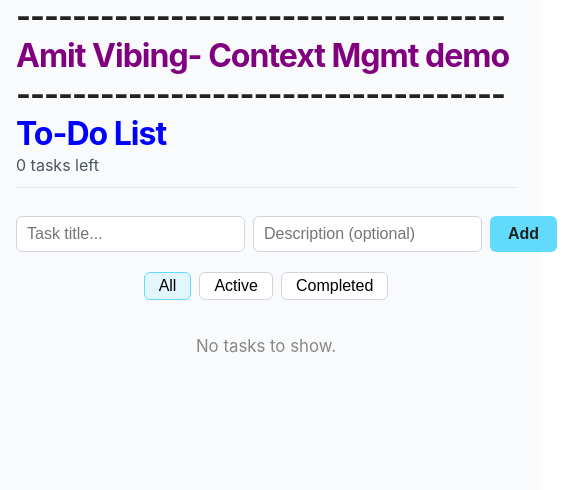
Test case: App Component › Deleting Tasks › deletes correct task when multiple tasks exist
Type "First task" into the field with placeholder "Task title...".
click(130, 234); type("First task")  # box [16,216,245,252]
Click the button "Add".
click(524, 234)  # box [490,216,557,252]
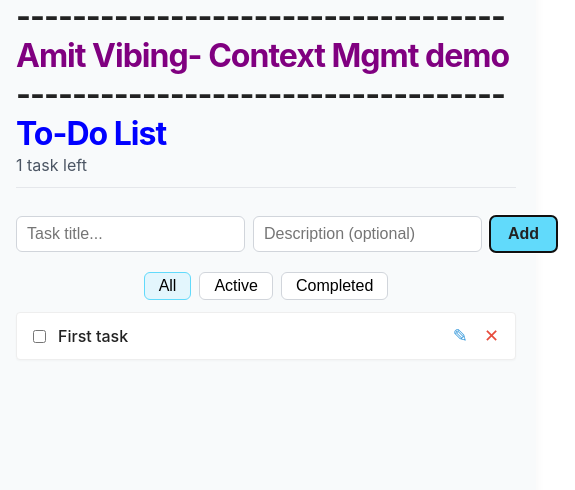
Type "Second task" into the field with placeholder "Task title...".
click(130, 234); type("Second task")  # box [16,216,245,252]
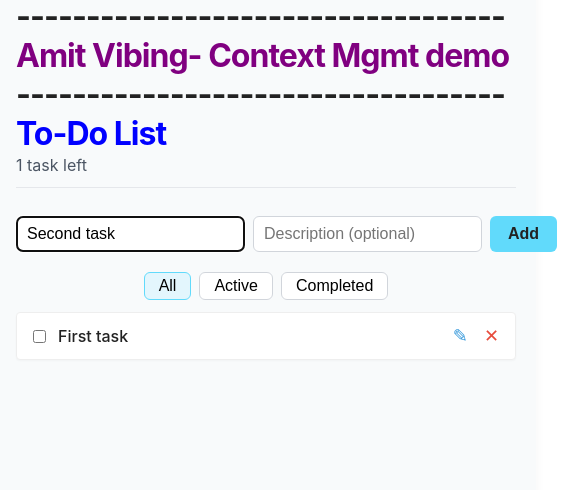
Click the button "Add".
click(524, 234)  # box [490,216,557,252]
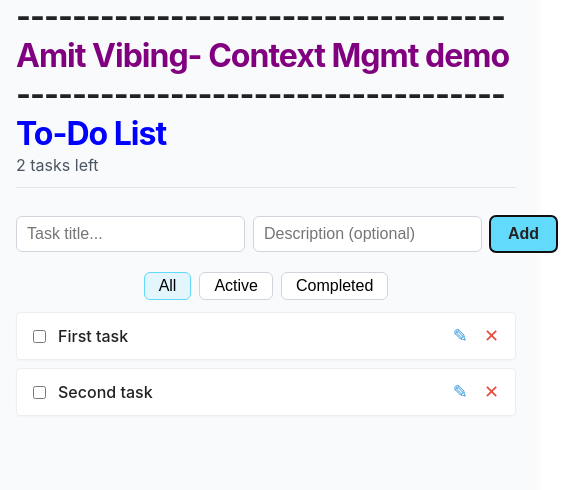
Type "Third task" into the field with placeholder "Task title...".
click(130, 234); type("Third task")  # box [16,216,245,252]
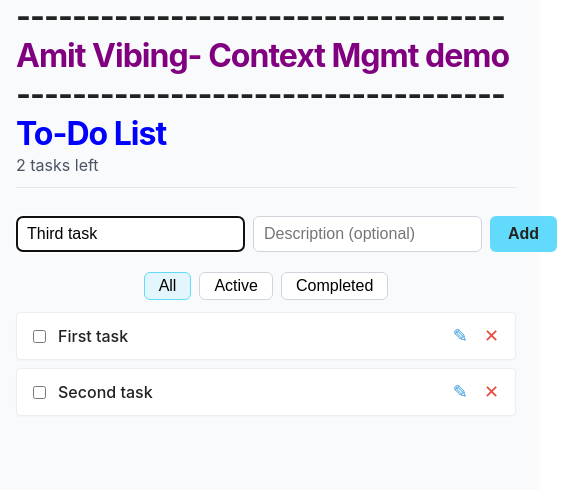
Click the button "Add".
click(524, 234)  # box [490,216,557,252]
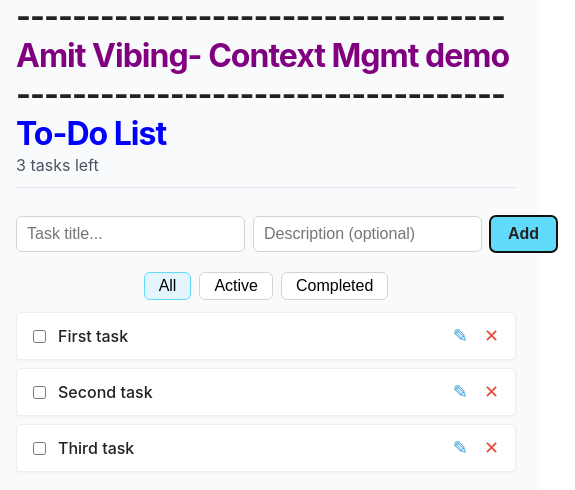
Expected: the text "First task" is shown, [58,326,128,346]
Expected: the text "Second task" is shown, [58,382,153,402]
Expected: the text "Third task" is shown, [58,438,134,458]
// Delete the second task
Click the button named "delete".
click(491, 392)  # box [480,377,503,407]
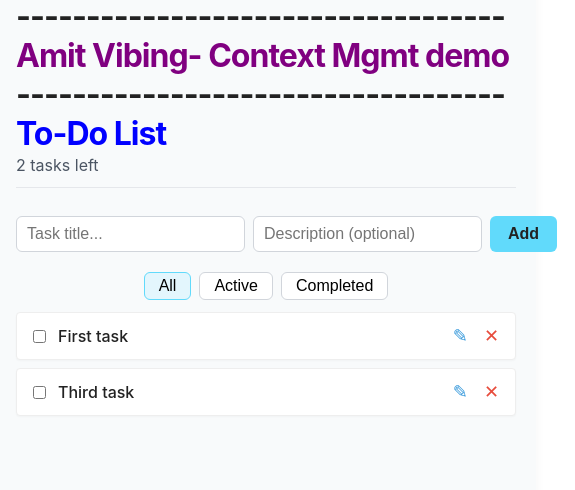
Expected: the text "First task" is shown, [58,326,128,346]
Expected: the text "Third task" is shown, [58,382,134,402]
Expected: the text "Second task" is gone
